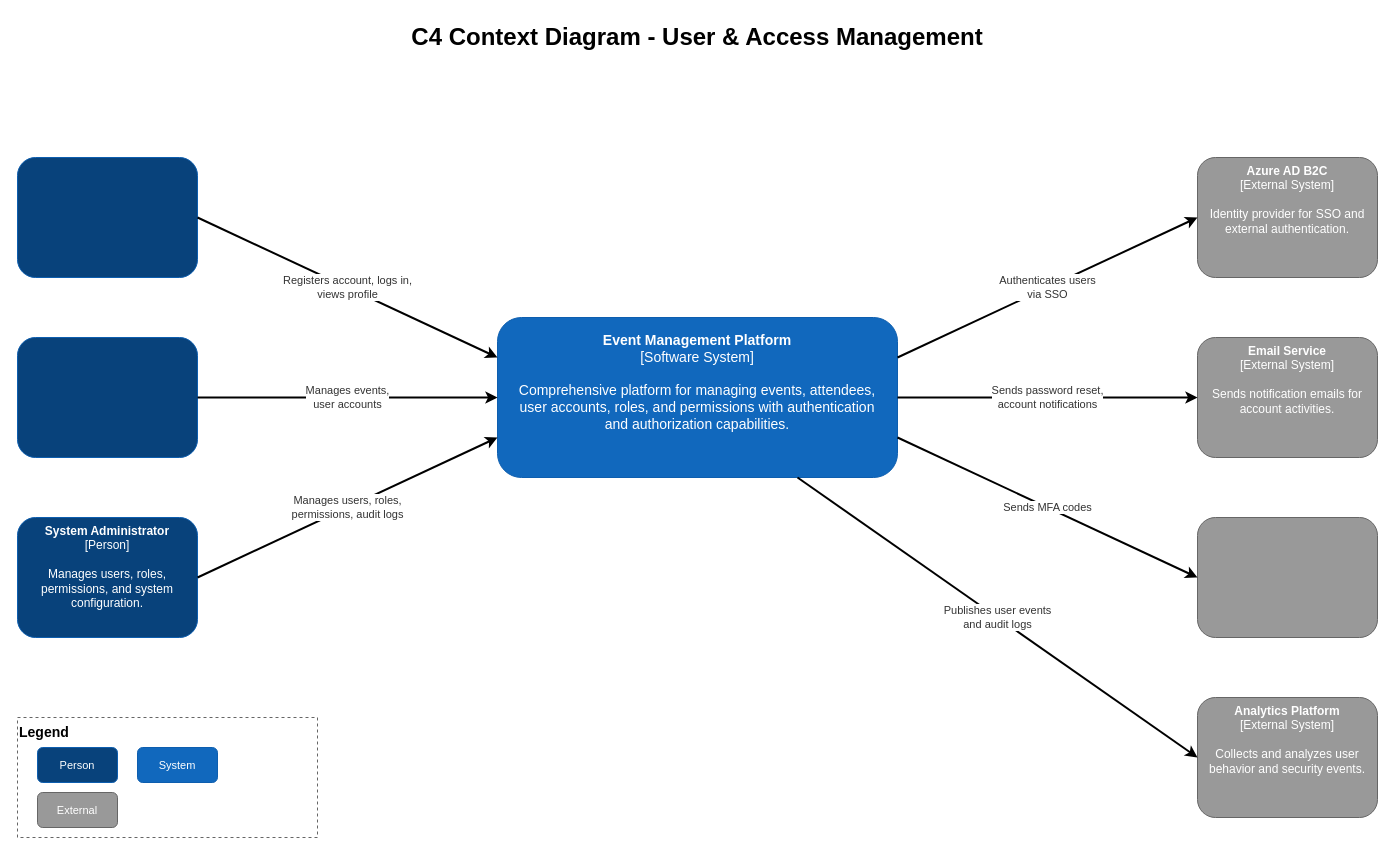
Some shapes in this 1395 by 855 pixel diagram are drawn without their labels. Here are the shapes that lost their labels. From the top down, the centre of each, then its label:
At [107,217]: "Event Attendee [Person] A user who registers for and attends events.".
At [107,397]: "Event Organizer [Person] A user who creates and manages events.".
At [1287,577]: "SMS Service [External System] Sends SMS for MFA verification.".
